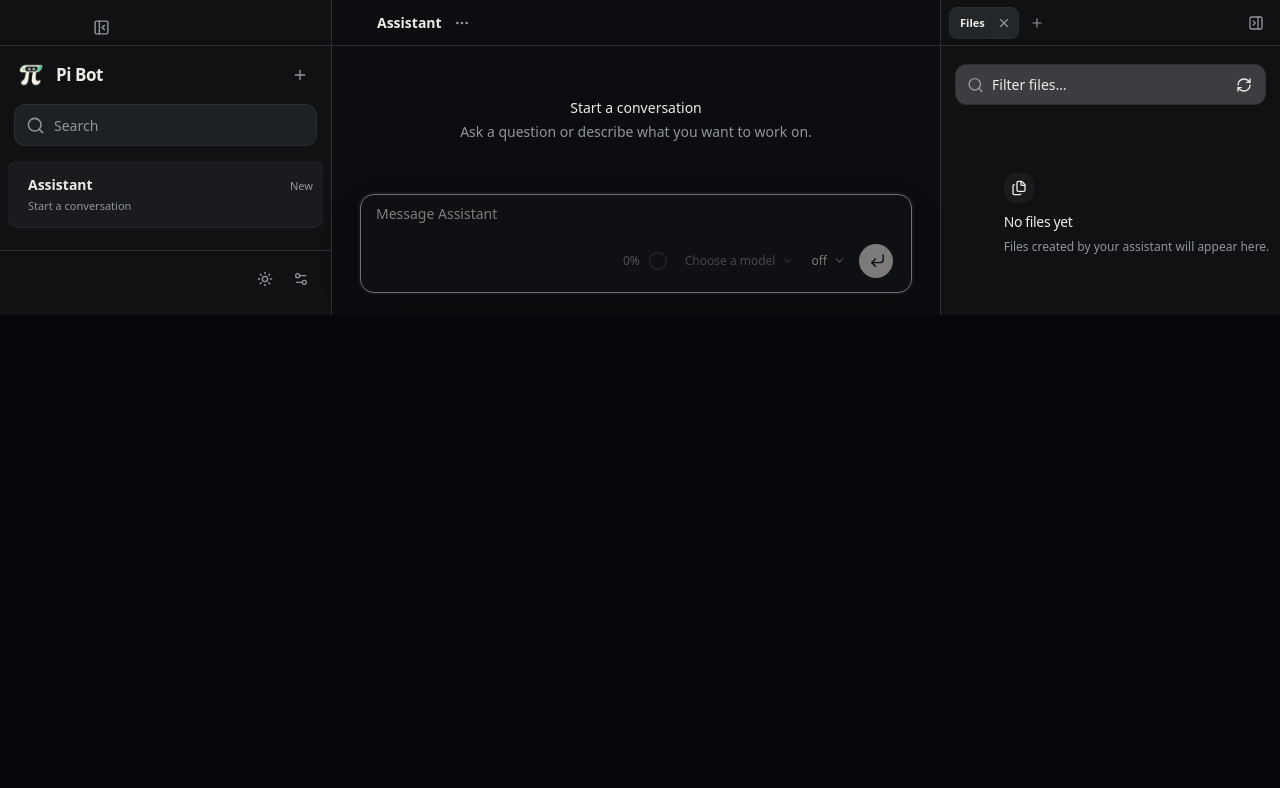
Test: Settings navigation › opens App Settings from the sidebar button
Click the button named "App settings": (301, 279) 285,263 -> 317,295
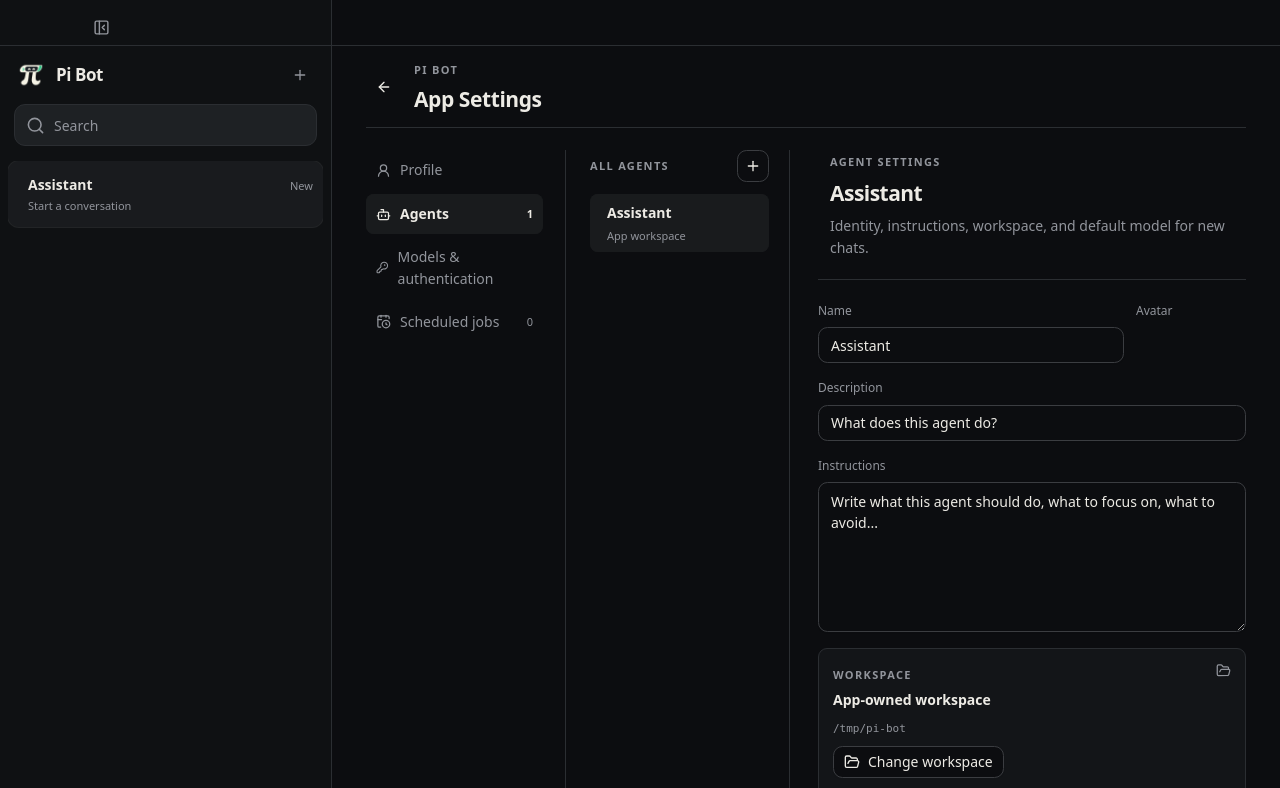
Result: the text "App Settings" is shown at 414,83 -> 542,115
